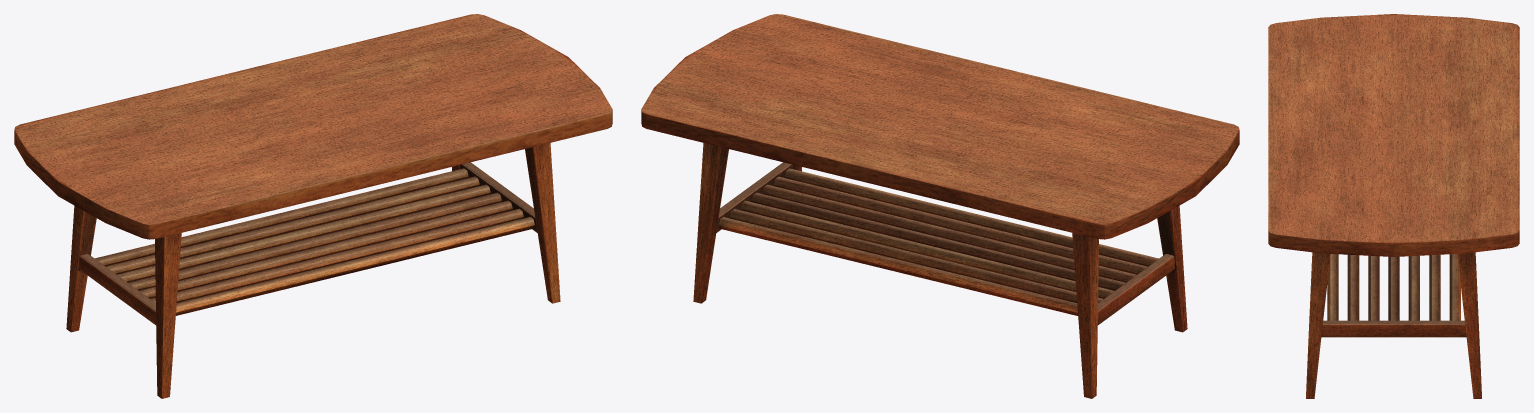
File: table.fbx
3 renders of one model, left to right at view 1: azimuth 30°, elevation 25°; view 2: azimuth 150°, elevation 25°; view 3: azimuth 270°, elevation 25°, orthographic. The views are drawn at different scales.
Parts seen in each view (by area): view 1: Cube; view 2: Cube; view 3: Cube.
Boxes of the visible parts, left/top/right/bottom form: Cube: left=14, top=14, right=612, bottom=398; Cube: left=641, top=14, right=1239, bottom=398; Cube: left=1268, top=14, right=1519, bottom=398.
Bounding box in the file's own units: 283 × 104 × 131.
1 material, 1 textured.
